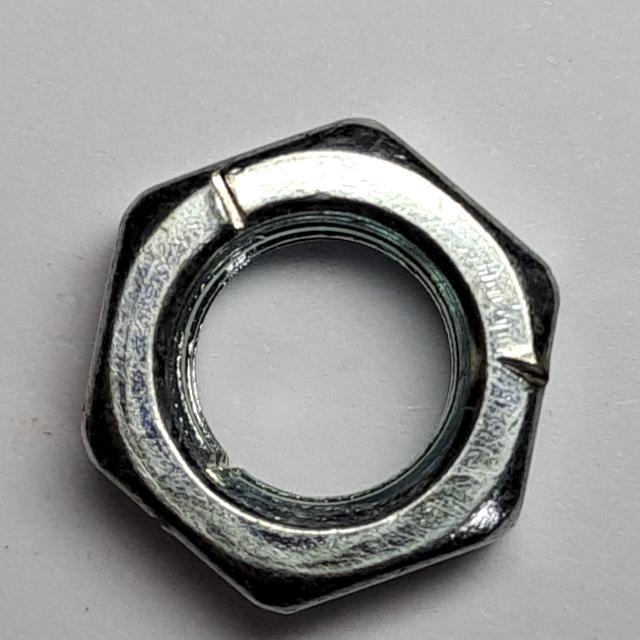Scratches: (70, 109, 570, 629)
